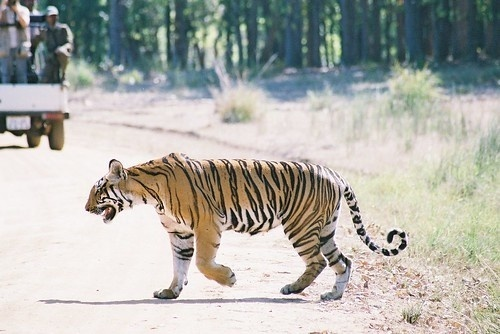tigre: (80, 148, 412, 307)
